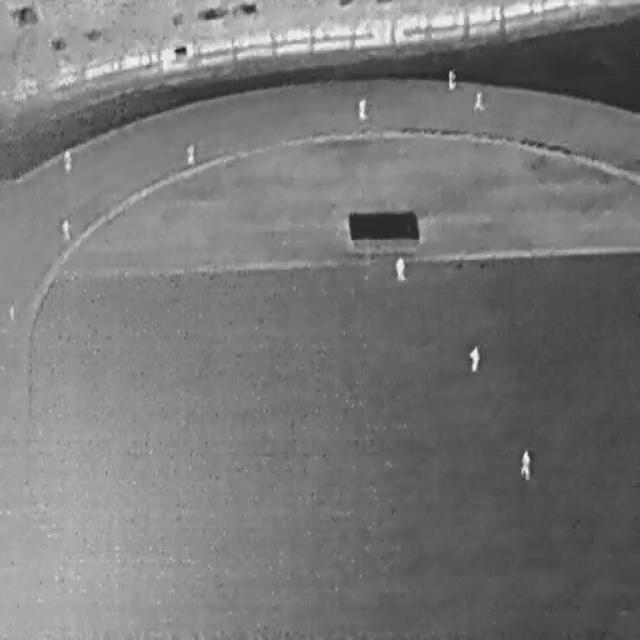Person: (520, 449, 530, 480), (469, 344, 480, 371), (394, 254, 405, 280), (357, 96, 367, 120), (473, 90, 484, 110), (63, 150, 72, 174), (447, 68, 456, 90), (185, 144, 194, 165), (61, 219, 70, 240)
